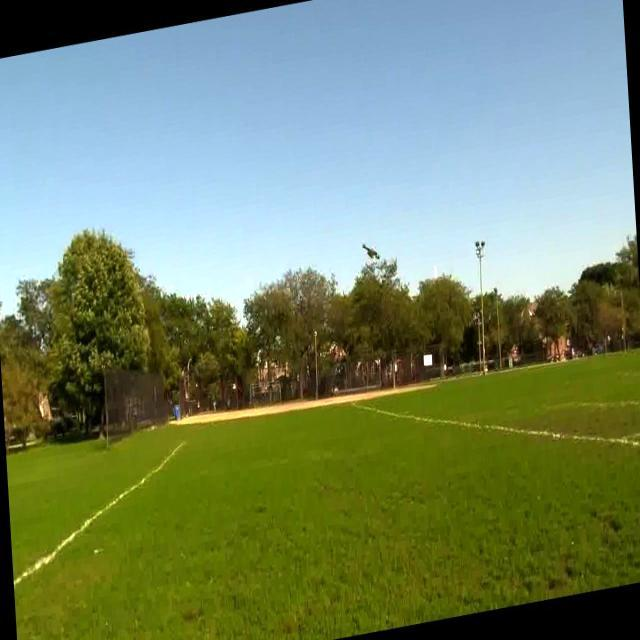drone: (358, 230, 383, 264)
